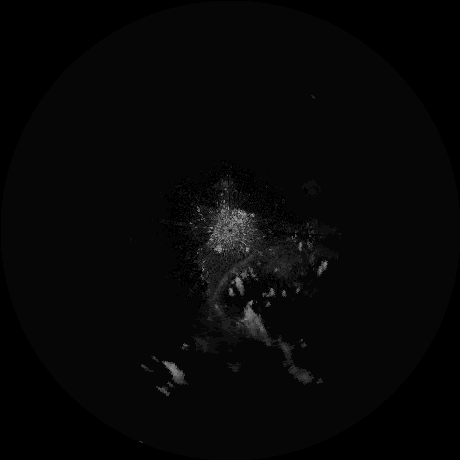frontgust: (211, 248, 260, 297)
